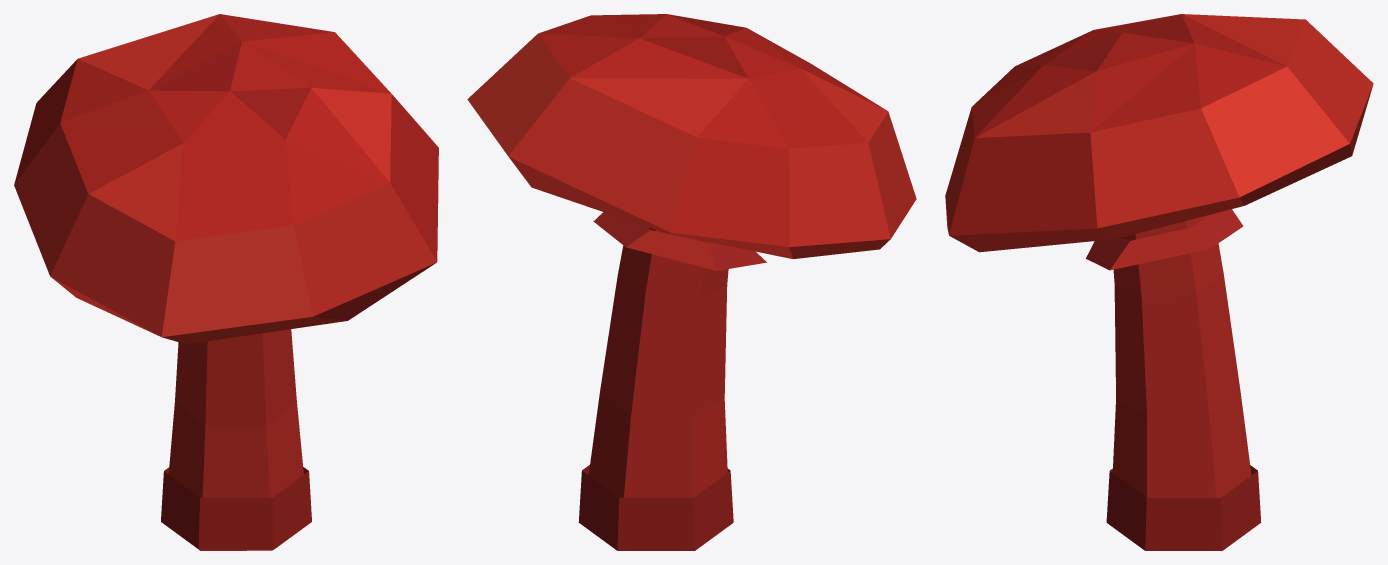
Rendered from mushroom_red3.fbx.
3 views of the same model, side by side, from view 1: azimuth 30°, elevation 25°; view 2: azimuth 150°, elevation 25°; view 3: azimuth 270°, elevation 25° (orthographic). The views are drawn at different scales.
Parts seen in each view (by area): view 1: mushroom_red3; view 2: mushroom_red3; view 3: mushroom_red3.
Boxes of the visible parts, box(x1,y1,x2,y2) form: mushroom_red3: box(14, 14, 438, 550); mushroom_red3: box(467, 14, 916, 550); mushroom_red3: box(945, 14, 1373, 550).
Bounding box in the file's own units: 18.68 × 23.13 × 18.42.
